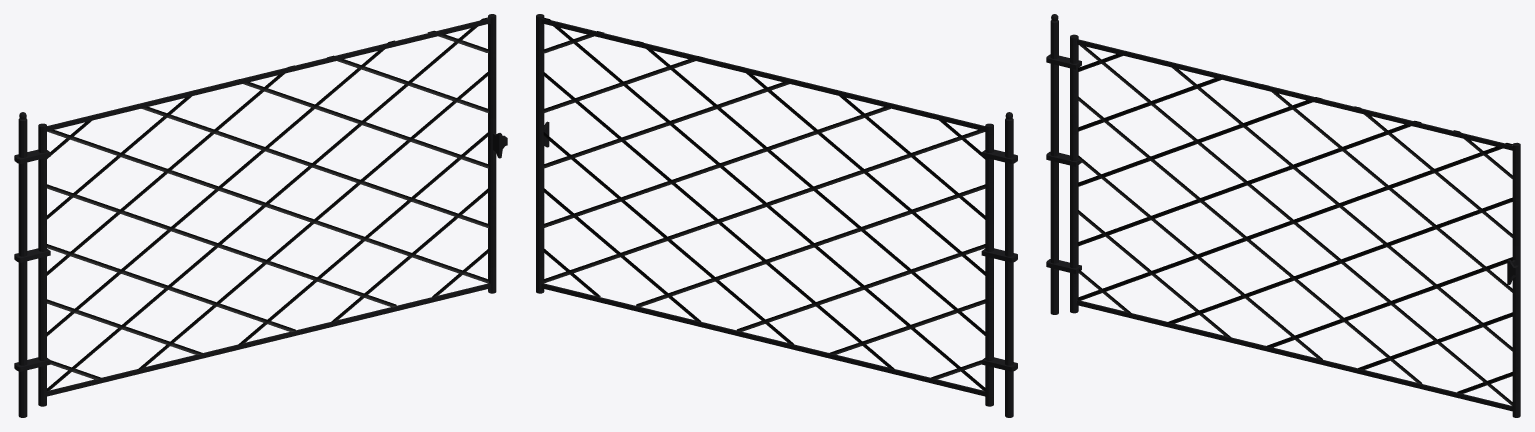
The model's file is ChainlinkfenceGate (1).fbx.
3 views of the same model, side by side, from view 1: azimuth 30°, elevation 25°; view 2: azimuth 150°, elevation 25°; view 3: azimuth 330°, elevation 25° (orthographic).
Visible parts, largest first — view 1: polySurface1, pCylinder4; view 2: polySurface1, pCylinder4; view 3: polySurface1, pCylinder4.
Boxes of the visible parts, x1,y1,x2,y2 form: polySurface1: (47, 14, 507, 396); pCylinder4: (14, 112, 50, 417); polySurface1: (536, 14, 985, 396); pCylinder4: (981, 112, 1017, 417); polySurface1: (1076, 39, 1520, 417); pCylinder4: (1046, 14, 1081, 314).
Bounding box in the file's own units: 246 × 148 × 9.92.
